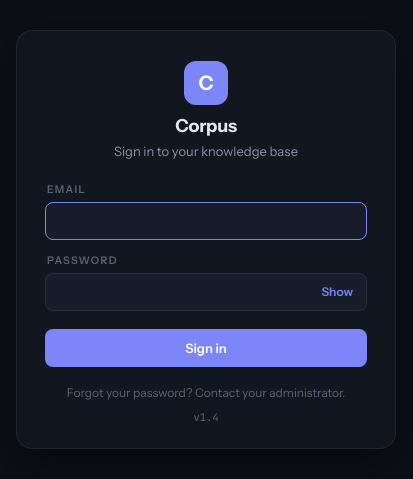
Test: FR-AUT-04 — errors › keeps the message while the user retypes, and clears it on the next attempt
The width and height of the screenshot is (413, 479).
Click the button "Sign in": (206, 348) [45, 328, 367, 366]
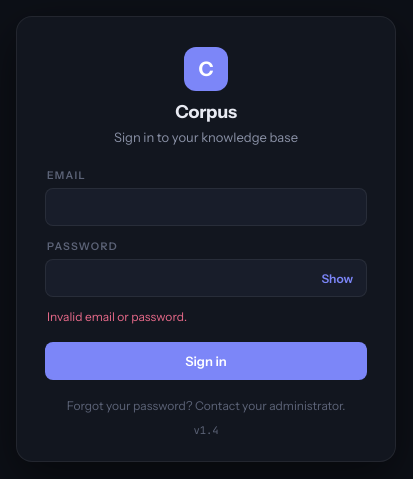
Check: the message "Invalid email or password." is shown, box [47, 309, 187, 324]
In the password field labelled "PASSWORD": (206, 278) [45, 259, 367, 297], type "another try"
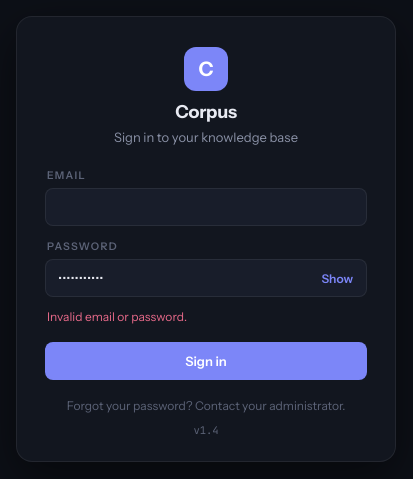
Check: the message "Invalid email or password." is shown, box [47, 309, 187, 324]
Click the button "Sign in": (206, 361) [45, 342, 367, 380]
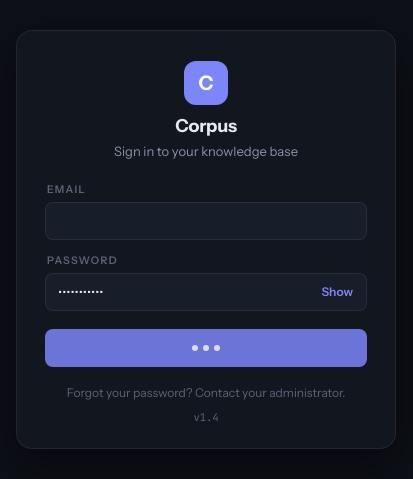
Check: the message "Invalid email or password." is gone
